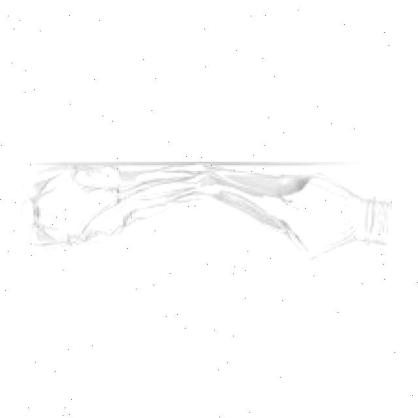bottle: (16, 147, 401, 273)
